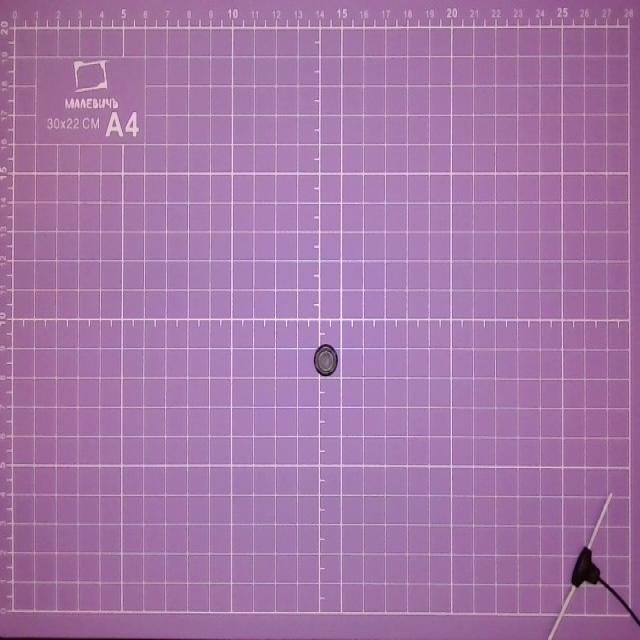antenna: (546, 492, 640, 640)
screw_M5: (313, 338, 342, 378)
